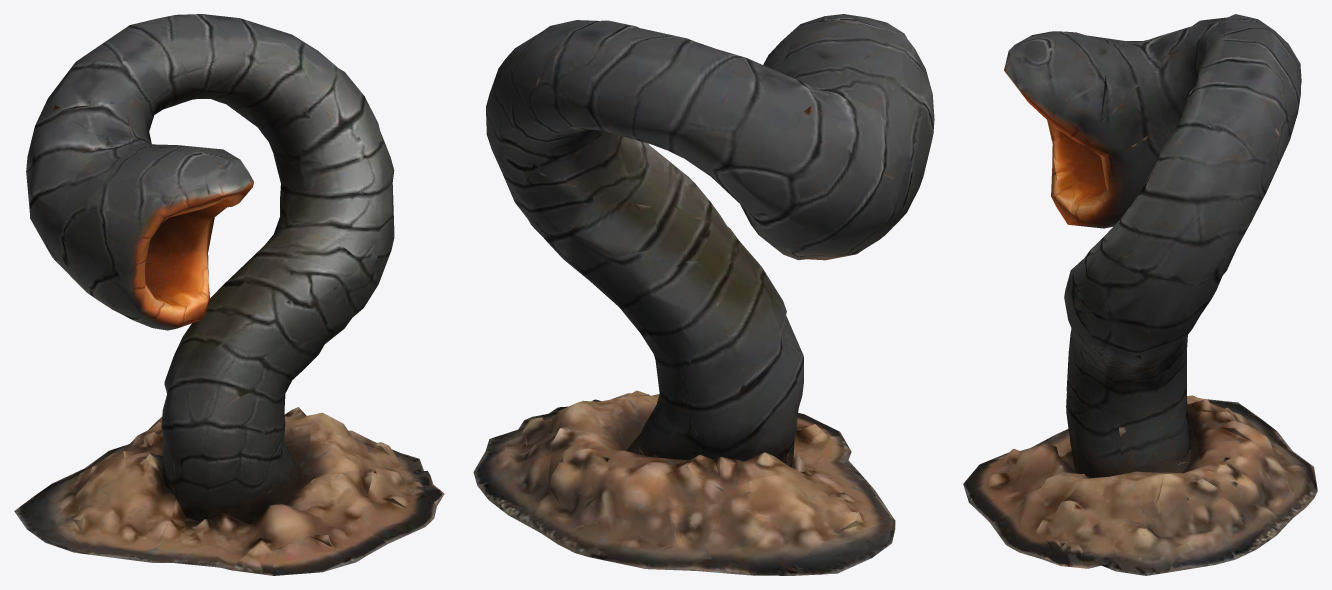
The model's file is monster_17.glb.
3 views of the same model, side by side, from view 1: azimuth 30°, elevation 25°; view 2: azimuth 150°, elevation 25°; view 3: azimuth 270°, elevation 25° (orthographic). The views are drawn at different scales.
Parts seen in each view (by area): view 1: Death_Serpent_Emergen_0710172628_texture; view 2: Death_Serpent_Emergen_0710172628_texture; view 3: Death_Serpent_Emergen_0710172628_texture.
Boxes of the visible parts, box(x1,y1,x2,y2) form: Death_Serpent_Emergen_0710172628_texture: box(14, 14, 444, 575); Death_Serpent_Emergen_0710172628_texture: box(473, 14, 934, 575); Death_Serpent_Emergen_0710172628_texture: box(963, 14, 1317, 575).
Bounding box in the file's own units: 1.65 × 1.9 × 1.39.
Materials: 1 (1 with a texture image).
